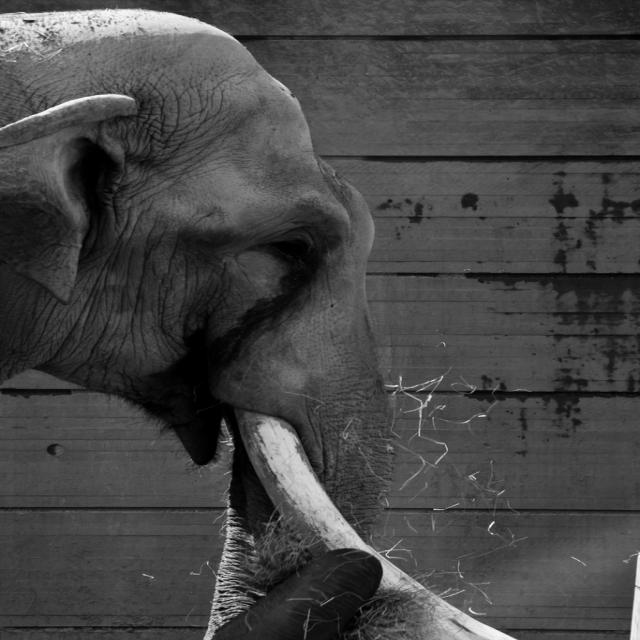elephant: (0, 0, 518, 640)
